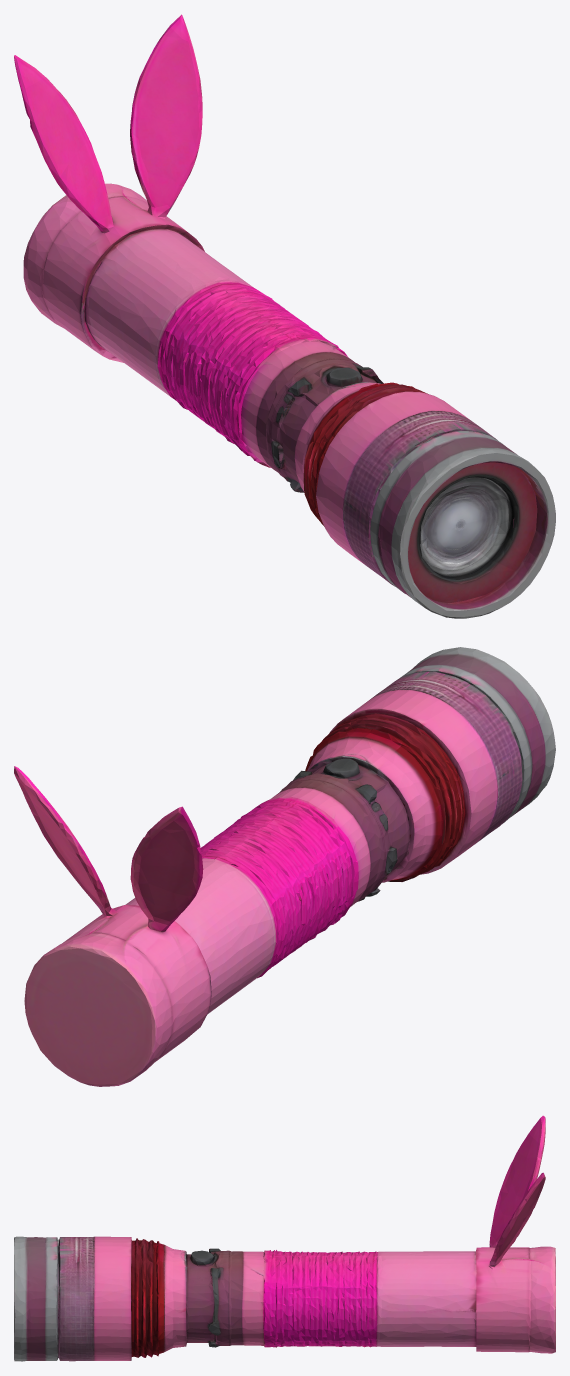
Rendered from Flashlight_for_Horror_0419095603_texture.fbx.
3 renders of one model, top to bottom at view 1: azimuth 30°, elevation 25°; view 2: azimuth 150°, elevation 25°; view 3: azimuth 270°, elevation 25°, orthographic. The views are drawn at different scales.
Visible parts, largest first — view 1: temp; view 2: temp; view 3: temp.
Part boxes in pixels (x1,y1,x2,y2): temp: [14, 14, 555, 618]; temp: [14, 647, 555, 1086]; temp: [14, 1115, 555, 1361].
Size of the model in its own units: 50.96 by 86.38 by 200.
Materials: 1 (1 with a texture image).
